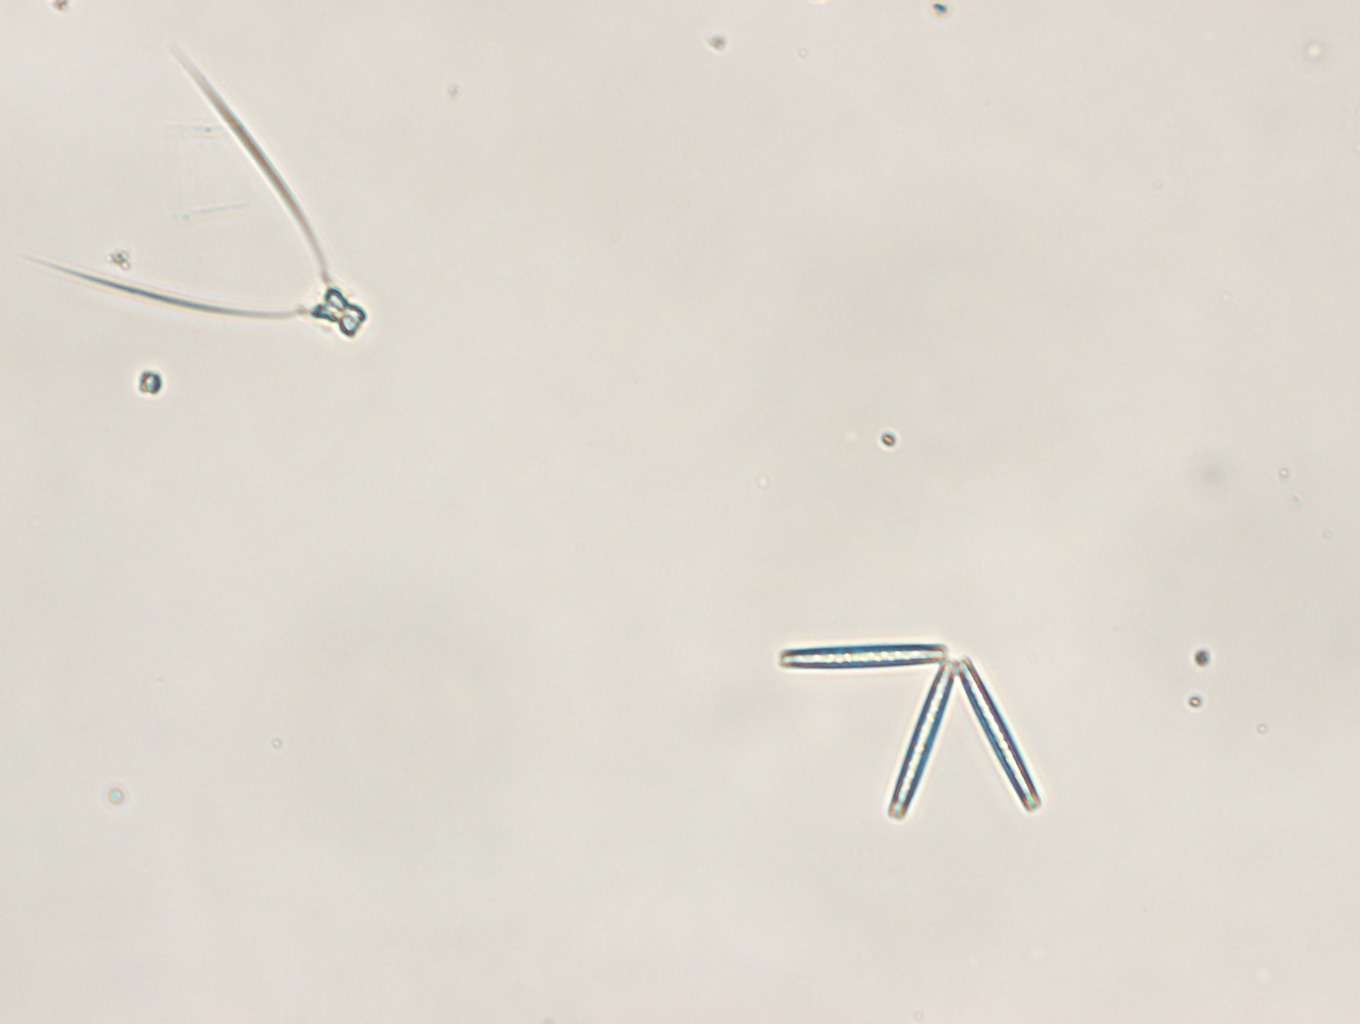chaetoceros: (23, 51, 367, 341)
thalassionema nitzschioides: (779, 643, 1039, 819)
